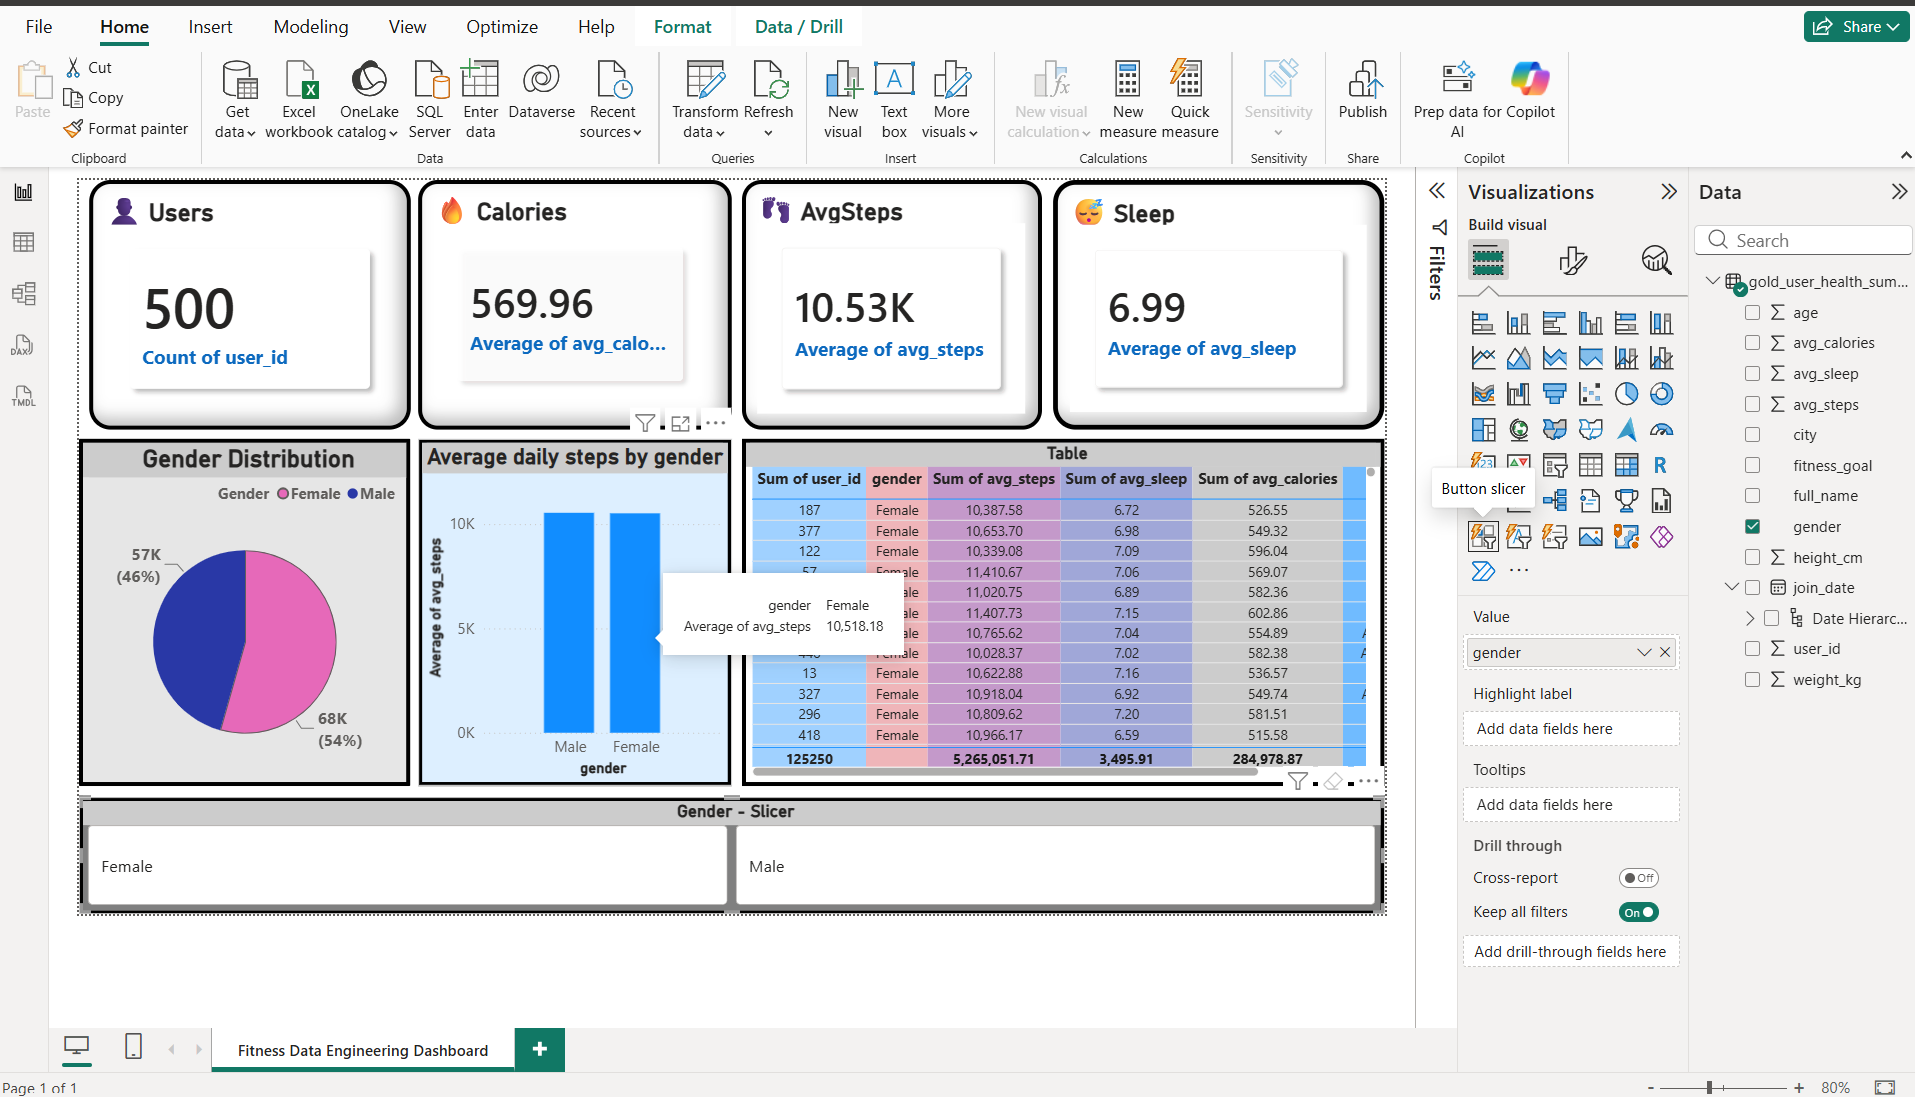

Layout of this report page (visuals, bound fields, positions):
{"tool":"powerbi","page":{"name":"Fitness Data Engineering Dashboard","canvas":[1280,720],"ordinal":0},"visuals":[{"type":"cardVisual","title":"👤 Users","fields":{"Data":["CountNonNull(gold_user_health_summary csv.user_id)"]},"box":[10,0,315,245],"z":0},{"type":"cardVisual","title":"👣 AvgSteps","fields":{"Data":["Avg(gold_user_health_summary csv.avg_steps)"]},"box":[650,0,293.8,245],"z":1000},{"type":"cardVisual","title":"😴 Sleep","fields":{"Data":["Avg(gold_user_health_summary csv.avg_sleep)"]},"box":[955,0,325,245],"z":2000},{"type":"cardVisual","title":"🔥 Calories","fields":{"Data":["Avg(gold_user_health_summary csv.avg_calories)"]},"box":[332.5,0,307.5,245],"z":3000},{"type":"pieChart","title":"Gender Distribution","fields":{"Category":["gold_user_health_summary csv.gender"],"Y":["Sum(gold_user_health_summary csv.user_id)"]},"box":[0,253.8,325,340],"z":4000},{"type":"clusteredColumnChart","title":"Average daily steps by gender","fields":{"Category":["gold_user_health_summary csv.gender"],"Y":["Avg(gold_user_health_summary csv.avg_steps)"]},"box":[332.5,253.8,307.5,340],"z":5000},{"type":"tableEx","title":"Table","fields":{"Values":["Sum(gold_user_health_summary csv.user_id)","gold_user_health_summary csv.gender","Sum(gold_user_health_summary csv.avg_steps)","Sum(gold_user_health_summary csv.avg_sleep)","Sum(gold_user_health_summary csv.avg_calories)","gold_user_health_summary csv.full_name"]},"box":[650,253.8,630,340],"z":6000},{"type":"advancedSlicerVisual","title":"Gender - Slicer","fields":{"Values":["gold_user_health_summary csv.gender"]},"box":[0,605,1280,115],"z":6001}]}

Visuals, with their boxes on the page's 1280x720 design canvas (x1, y1, x2, y2). These are canvas units, not pixel positions in the 1915x1097 screenshot, which may show the page scaled, cropped or inside an application window:
"👤 Users" cardVisual: <bbox>10, 0, 325, 245</bbox>
"👣 AvgSteps" cardVisual: <bbox>650, 0, 944, 245</bbox>
"😴 Sleep" cardVisual: <bbox>955, 0, 1280, 245</bbox>
"🔥 Calories" cardVisual: <bbox>332, 0, 640, 245</bbox>
"Gender Distribution" pieChart: <bbox>0, 254, 325, 594</bbox>
"Average daily steps by gender" clusteredColumnChart: <bbox>332, 254, 640, 594</bbox>
"Table" tableEx: <bbox>650, 254, 1280, 594</bbox>
"Gender - Slicer" advancedSlicerVisual: <bbox>0, 605, 1280, 720</bbox>
